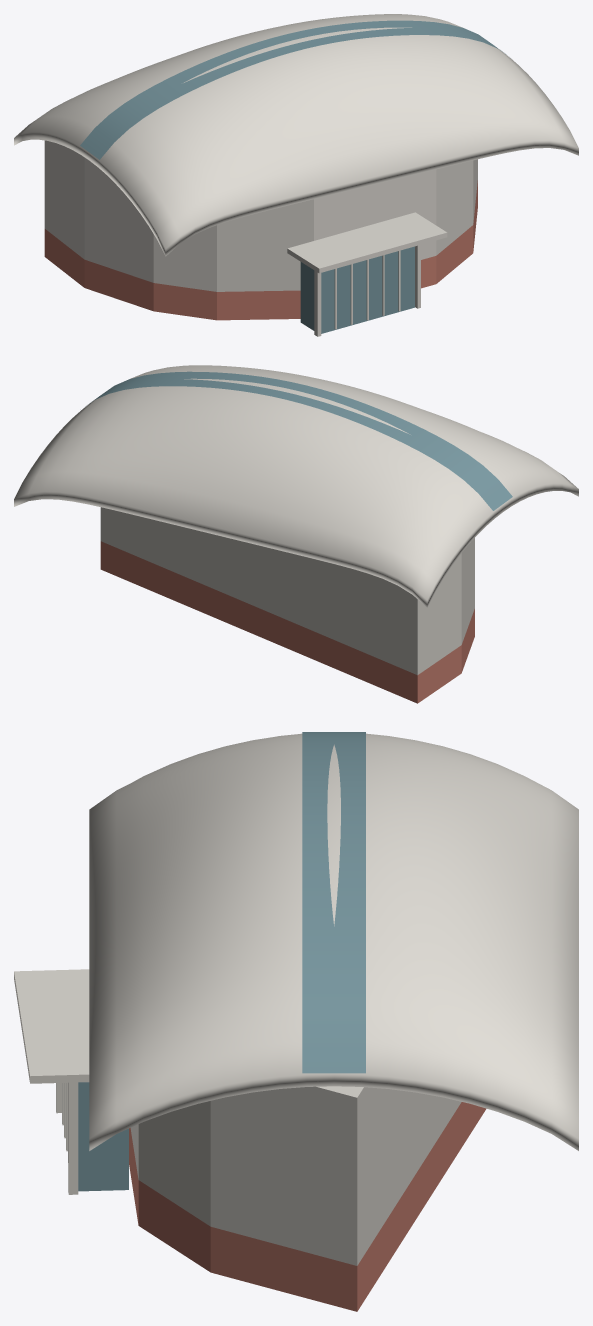
File: jca.glb
3 views of the same model, one above another, from view 1: azimuth 30°, elevation 25°; view 2: azimuth 150°, elevation 25°; view 3: azimuth 270°, elevation 25° (orthographic). The views are drawn at different scales.
Visible parts, largest first — view 1: JCA_roof, JCA_hall, JCA_plinth, JCA_roof_glass, JCA_foyer, JCA_canopy, JCA_frame_l; view 2: JCA_roof, JCA_hall, JCA_plinth, JCA_roof_glass; view 3: JCA_roof, JCA_hall, JCA_roof_glass, JCA_plinth, JCA_canopy, JCA_foyer, JCA_frame_r.
Part boxes in pixels (x1=…): JCA_roof: x1=14, y1=14, x2=578, y2=256; JCA_hall: x1=44, y1=140, x2=477, y2=291; JCA_plinth: x1=44, y1=180, x2=477, y2=320; JCA_roof_glass: x1=80, y1=20, x2=506, y2=159; JCA_foyer: x1=300, y1=246, x2=414, y2=333; JCA_canopy: x1=287, y1=212, x2=447, y2=273; JCA_frame_l: x1=314, y1=270, x2=321, y2=336; JCA_roof: x1=14, y1=365, x2=578, y2=607; JCA_hall: x1=100, y1=507, x2=474, y2=675; JCA_plinth: x1=100, y1=541, x2=474, y2=703; JCA_roof_glass: x1=85, y1=371, x2=512, y2=510; JCA_roof: x1=89, y1=733, x2=578, y2=1150; JCA_hall: x1=130, y1=1086, x2=461, y2=1265; JCA_roof_glass: x1=302, y1=732, x2=365, y2=1073; JCA_plinth: x1=129, y1=1102, x2=486, y2=1311; JCA_canopy: x1=14, y1=969, x2=89, y2=1083; JCA_foyer: x1=78, y1=1082, x2=128, y2=1191; JCA_frame_r: x1=68, y1=1082, x2=78, y2=1194.
Size of the model in its own units: 36.52 by 18.4 by 26.78.
